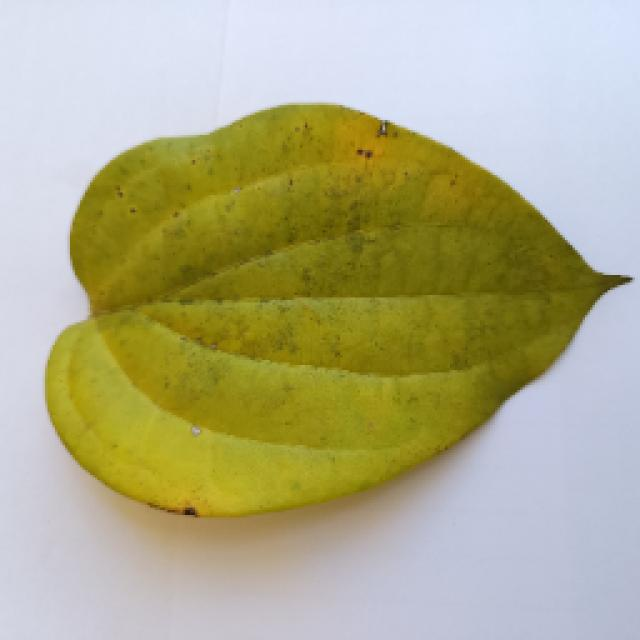slow-decline: (20, 107, 625, 605)
